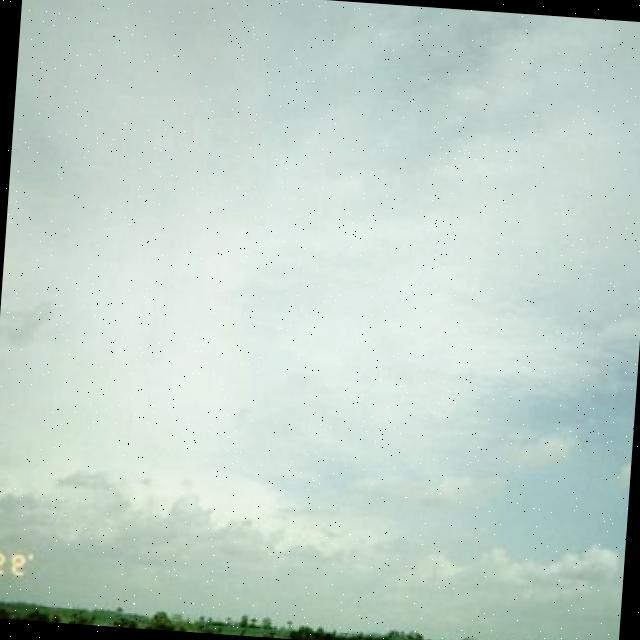Cs: (1, 6, 640, 507)
